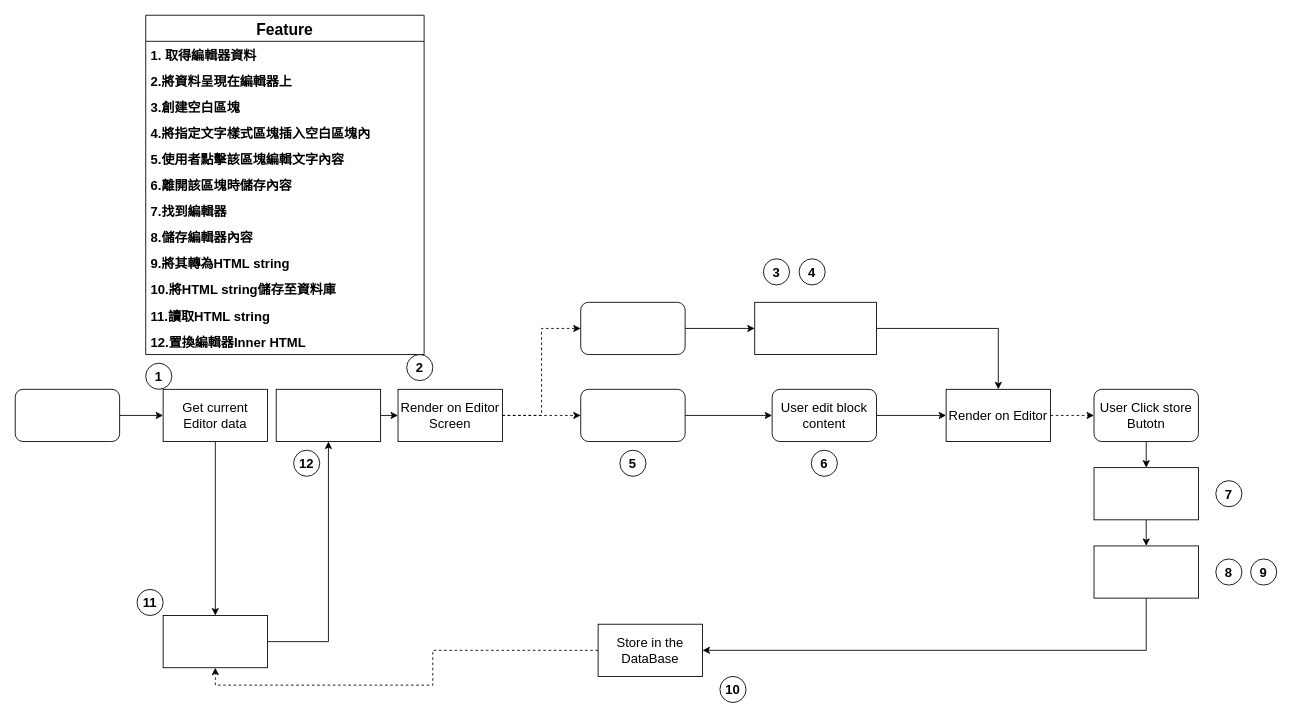
The diagram is 1292 pixels wide and 718 high, and some of its shapes have lost their labels. Each missing label, with the centre of its shape:
"Component Loaded" goes at point 67,415.
"Create a new Block with target style" goes at point 815,328.
"Find the Editor on the DOM" goes at point 1145,493.
"Get the editor inner HTML" goes at point 1145,571.
"Parse HTML string to editor InnerHTML" goes at point 328,415.
"Query Database to get HTML string" goes at point 215,641.
"User Click on add Block Button" goes at point 632,328.
"User Click on Block" goes at point 632,415.
